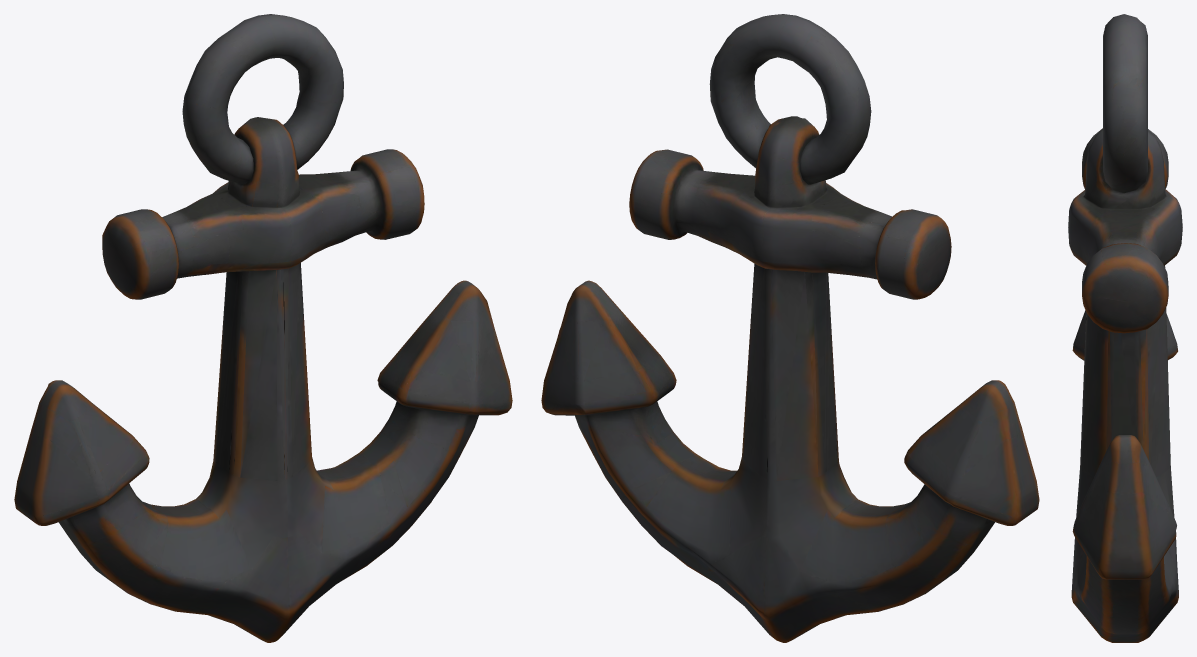
File: anchor.glb
The picture shows the model from 3 angles, left to right: view 1: azimuth 30°, elevation 25°; view 2: azimuth 150°, elevation 25°; view 3: azimuth 270°, elevation 25°; orthographic projection.
Visible parts, largest first — view 1: geometry_0; view 2: geometry_0; view 3: geometry_0.
Part boxes in pixels (x1,y1,x2,y2): geometry_0: [14, 14, 512, 642]; geometry_0: [541, 14, 1039, 642]; geometry_0: [1068, 14, 1182, 642].
Bounding box in the file's own units: 0.7671 × 0.9517 × 0.1592.
Materials: 1 (1 with a texture image).
